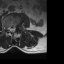CCS_normal: (11, 24, 13, 34)
LFS_normal: (15, 23, 17, 30)
LLS_normal: (13, 24, 15, 33)
RFS_normal: (6, 24, 9, 31)
RLS_normal: (9, 24, 11, 32)
